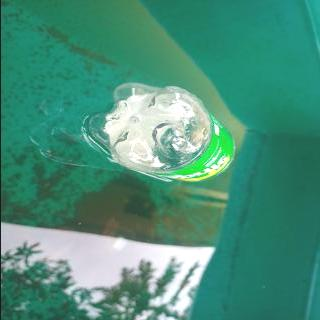bottle: (82, 79, 240, 186)
